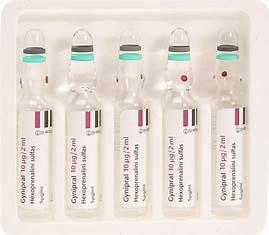Syringe: (58, 23, 106, 219), (157, 26, 202, 218), (14, 26, 57, 222), (111, 27, 154, 215), (210, 24, 250, 217)
